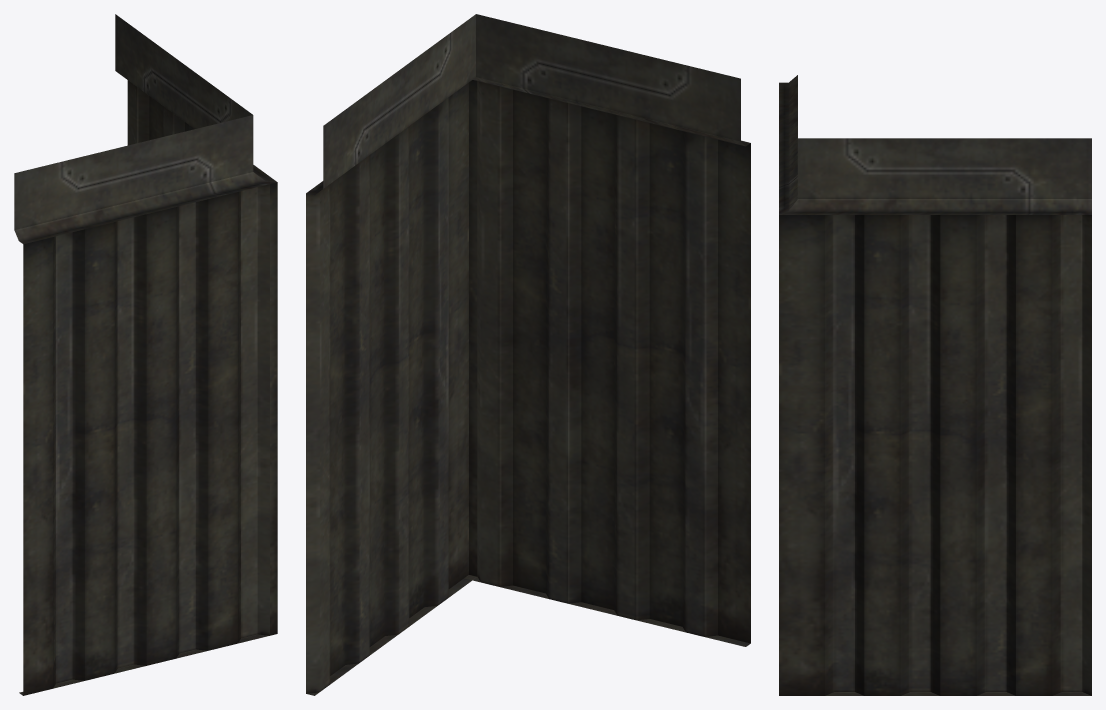
File: pplant_bulkhead_concave_short.dae
The picture shows the model from 3 angles, left to right: view 1: azimuth 30°, elevation 25°; view 2: azimuth 150°, elevation 25°; view 3: azimuth 270°, elevation 25°; orthographic projection. The views are drawn at different scales.
Visible parts, largest first — view 1: bulkhead_concave_short; view 2: bulkhead_concave_short; view 3: bulkhead_concave_short.
Part boxes in pixels (<box>): bulkhead_concave_short: <box>14,14,277,695</box>; bulkhead_concave_short: <box>306,14,750,695</box>; bulkhead_concave_short: <box>779,75,1091,695</box>.
Bounding box in the file's own units: 2.06 × 4 × 2.06.
